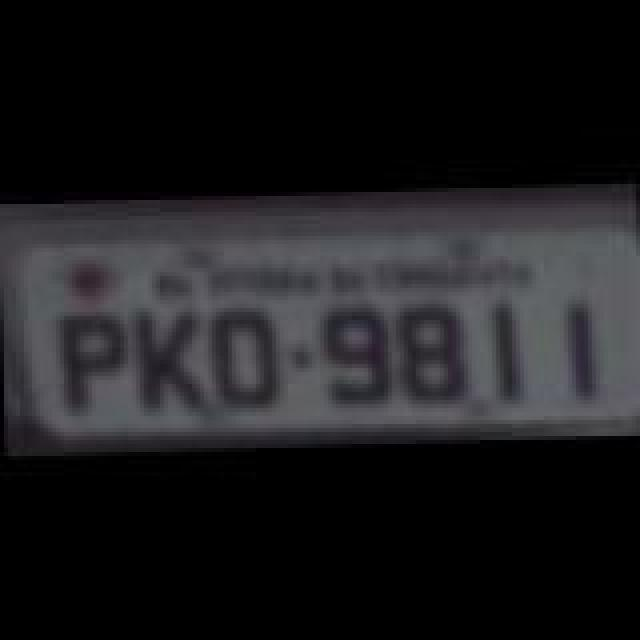1: (566, 290, 602, 398), (486, 298, 522, 398)
8: (394, 298, 470, 406)
9: (322, 298, 398, 406)
K: (130, 306, 206, 414)
O: (214, 298, 282, 406)
P: (56, 308, 128, 412)
